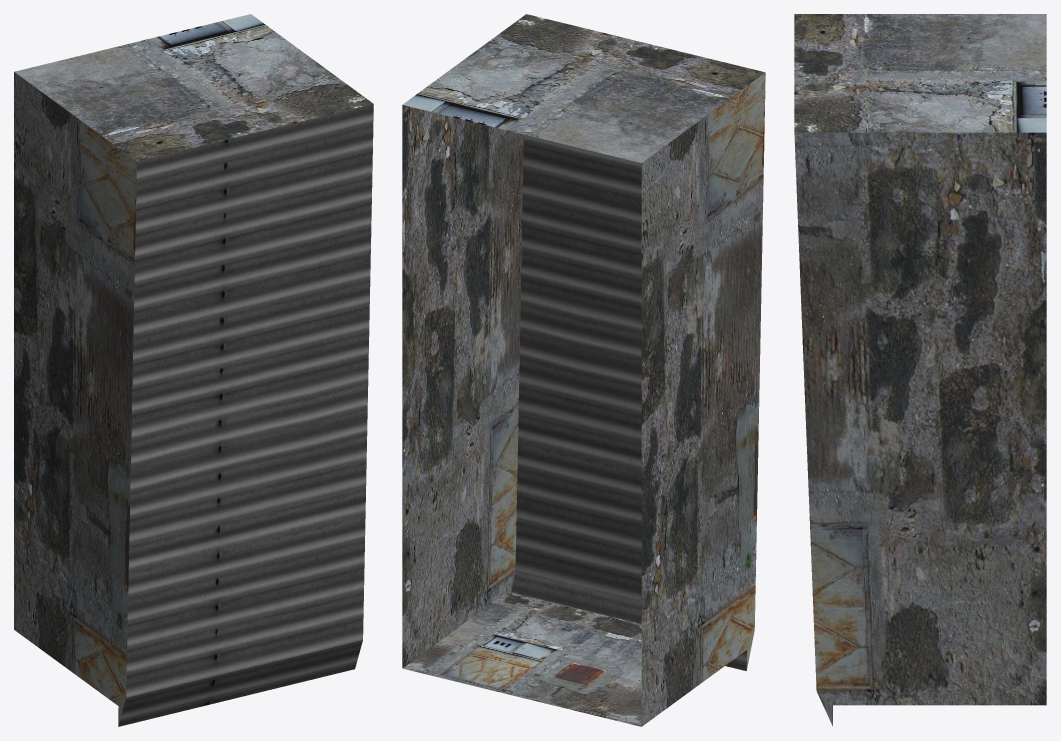
File: houseduchamp05_wtf.obj
3 renders of one model, left to right at view 1: azimuth 30°, elevation 25°; view 2: azimuth 150°, elevation 25°; view 3: azimuth 270°, elevation 25°, orthographic. The views are drawn at different scales.
Visible parts, largest first — view 1: group2; view 2: group2; view 3: group2.
Boxes of the visible parts, left/top/right/bottom form: group2: left=14, top=14, right=373, bottom=726; group2: left=402, top=14, right=765, bottom=726; group2: left=794, top=14, right=1046, bottom=726.
Bounding box in the file's own units: 283 × 660 × 254.
